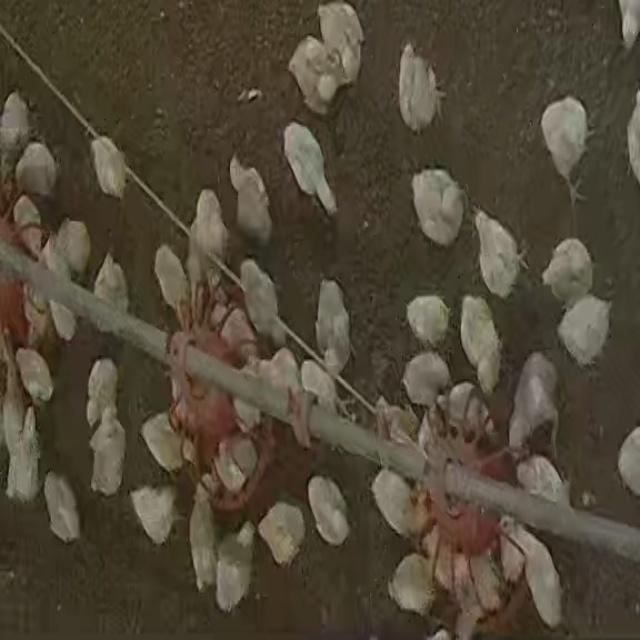chicken: (502, 518, 562, 630), (506, 352, 558, 460), (40, 227, 86, 345), (281, 122, 338, 213), (542, 96, 592, 198), (472, 210, 526, 302), (287, 37, 345, 117), (237, 259, 284, 356), (411, 167, 465, 251), (458, 294, 502, 396), (397, 43, 445, 135), (556, 294, 612, 369), (316, 2, 366, 86), (3, 399, 42, 506), (227, 156, 272, 247), (189, 190, 229, 288), (314, 278, 353, 378), (541, 237, 595, 308), (213, 526, 255, 614), (91, 252, 129, 347), (87, 408, 127, 498), (370, 467, 418, 540), (256, 498, 307, 566), (427, 383, 497, 431), (188, 486, 219, 594), (128, 482, 178, 547), (306, 474, 351, 546), (387, 553, 434, 617), (513, 453, 566, 509), (138, 412, 184, 476), (298, 357, 342, 422), (153, 242, 190, 318), (42, 472, 81, 544), (400, 352, 450, 408), (86, 357, 121, 435), (89, 134, 129, 200), (405, 294, 451, 350), (14, 141, 57, 199), (14, 346, 54, 406), (51, 219, 91, 278), (0, 90, 32, 162), (11, 193, 43, 250)
